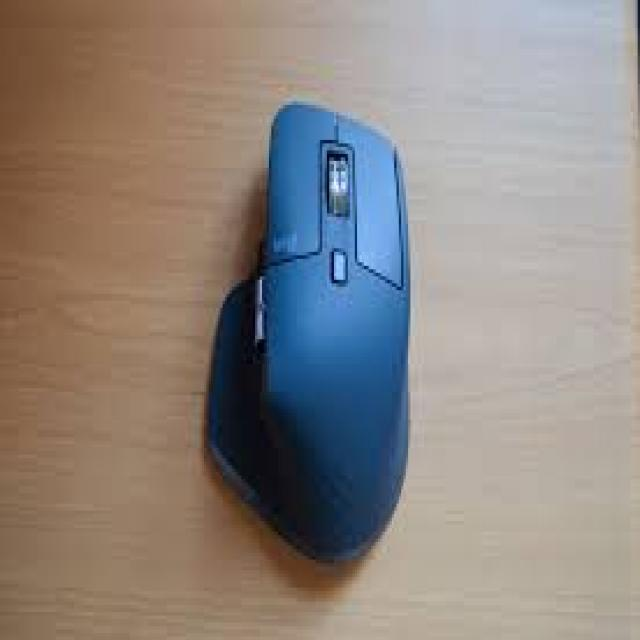others: (204, 91, 429, 552)
